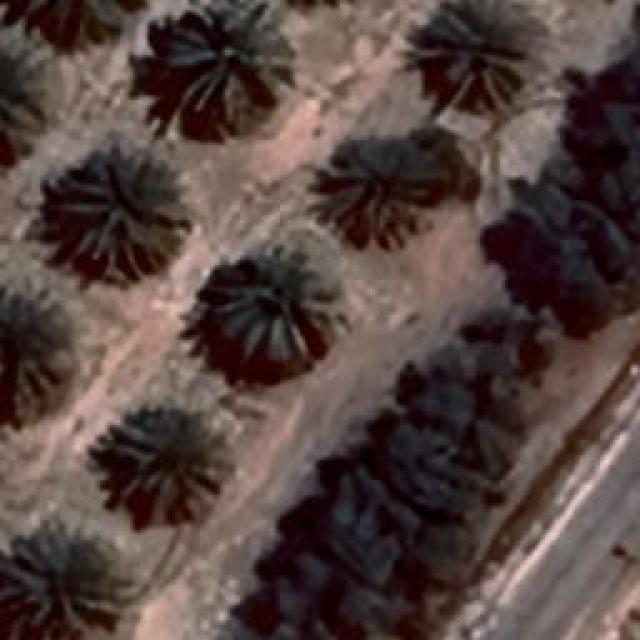PalmTree: (48, 148, 190, 282), (162, 2, 298, 130), (310, 130, 440, 250), (210, 245, 340, 360), (103, 410, 230, 525), (2, 528, 130, 638), (410, 0, 525, 110), (0, 0, 154, 57), (4, 291, 72, 419), (0, 25, 55, 140)
